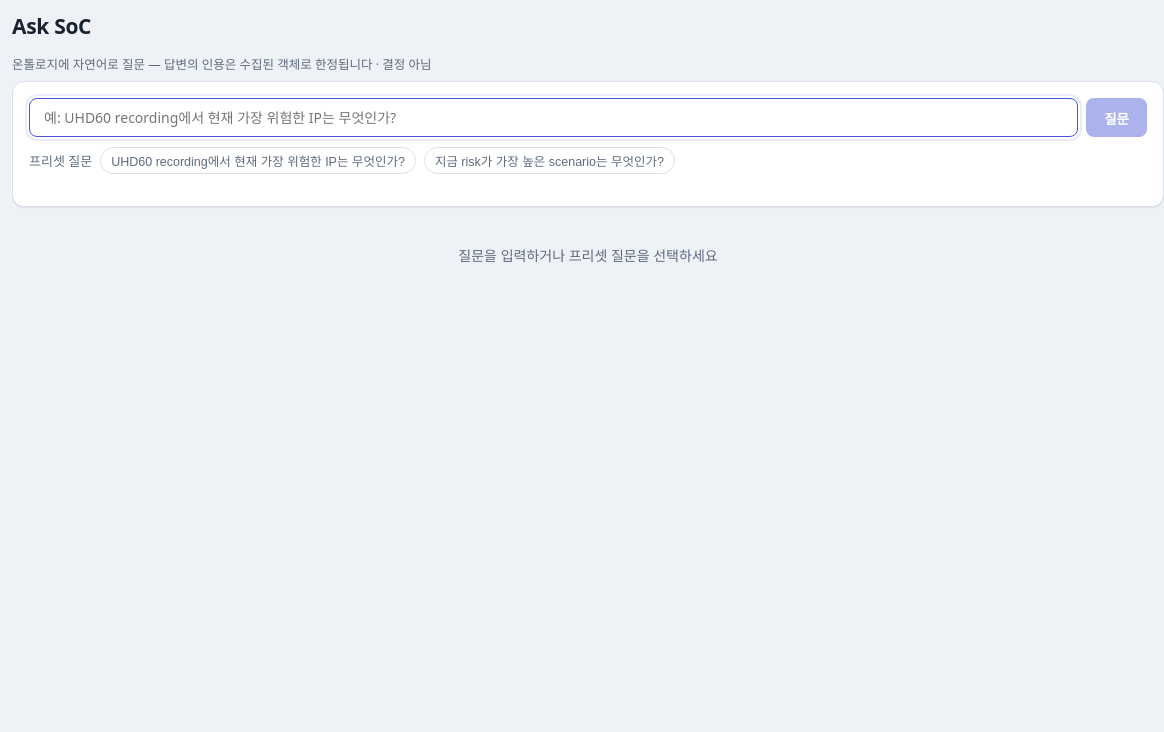
Scenario: AskPage › 프리셋 질문을 표시하고 클릭 시 답변을 렌더링한다
Click the button "UHD60 recording에서 현재 가장 위험한 IP는 무엇인가?": point(258, 160) [100, 147, 416, 174]
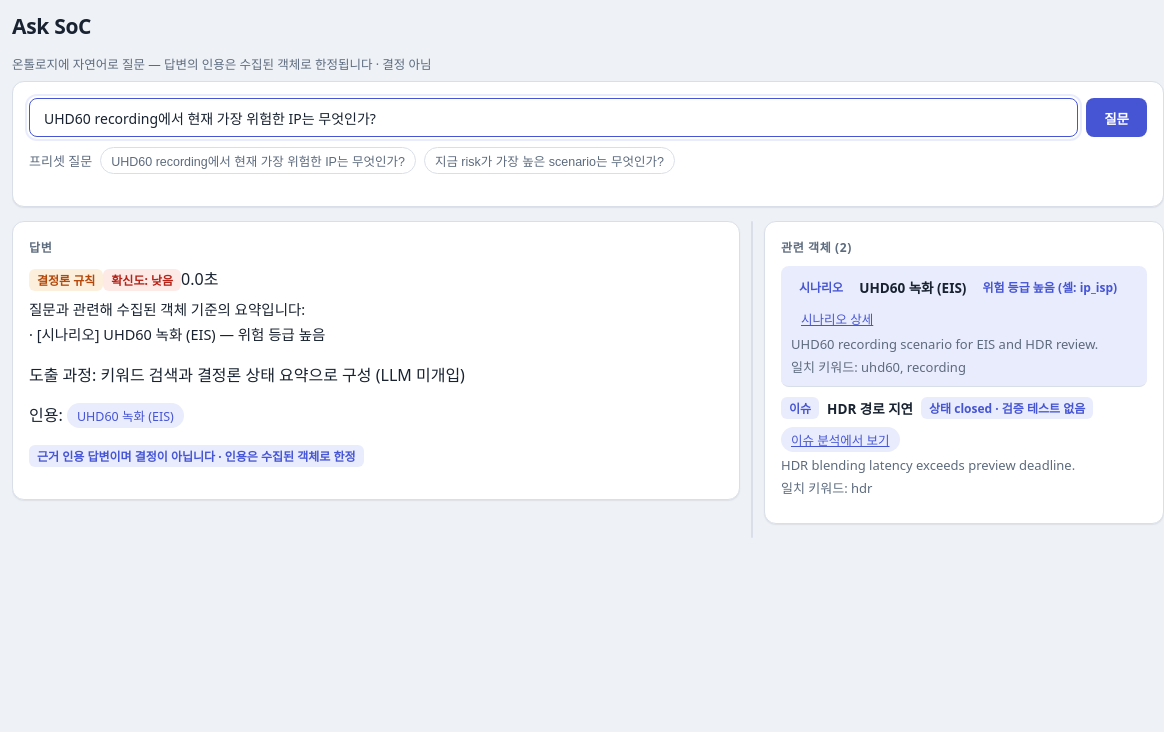
Result: the text "질문과 관련해 수집된 객체 기준의 요약입니다: · [시나리오] UHD60 녹화 (EIS) — 위험 등급 높음" is shown at [29, 299, 325, 344]
Result: the text "결정론 규칙" is shown at [29, 269, 103, 291]
Result: the heading "관련 객체 (2)" is shown at [781, 239, 852, 256]
